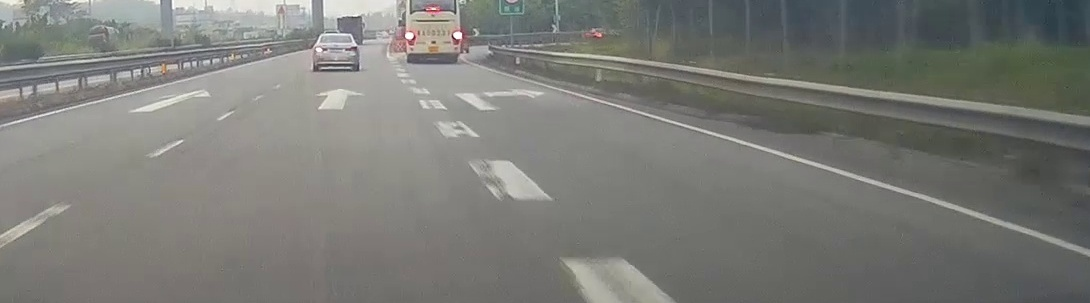L_light: (407, 31, 415, 45), (316, 47, 328, 52)
R_light: (452, 30, 460, 45), (345, 47, 357, 51), (332, 35, 340, 36)
T_light: (425, 7, 440, 11)
day-brake: (404, 0, 462, 64)
day-left: (311, 33, 360, 71)
